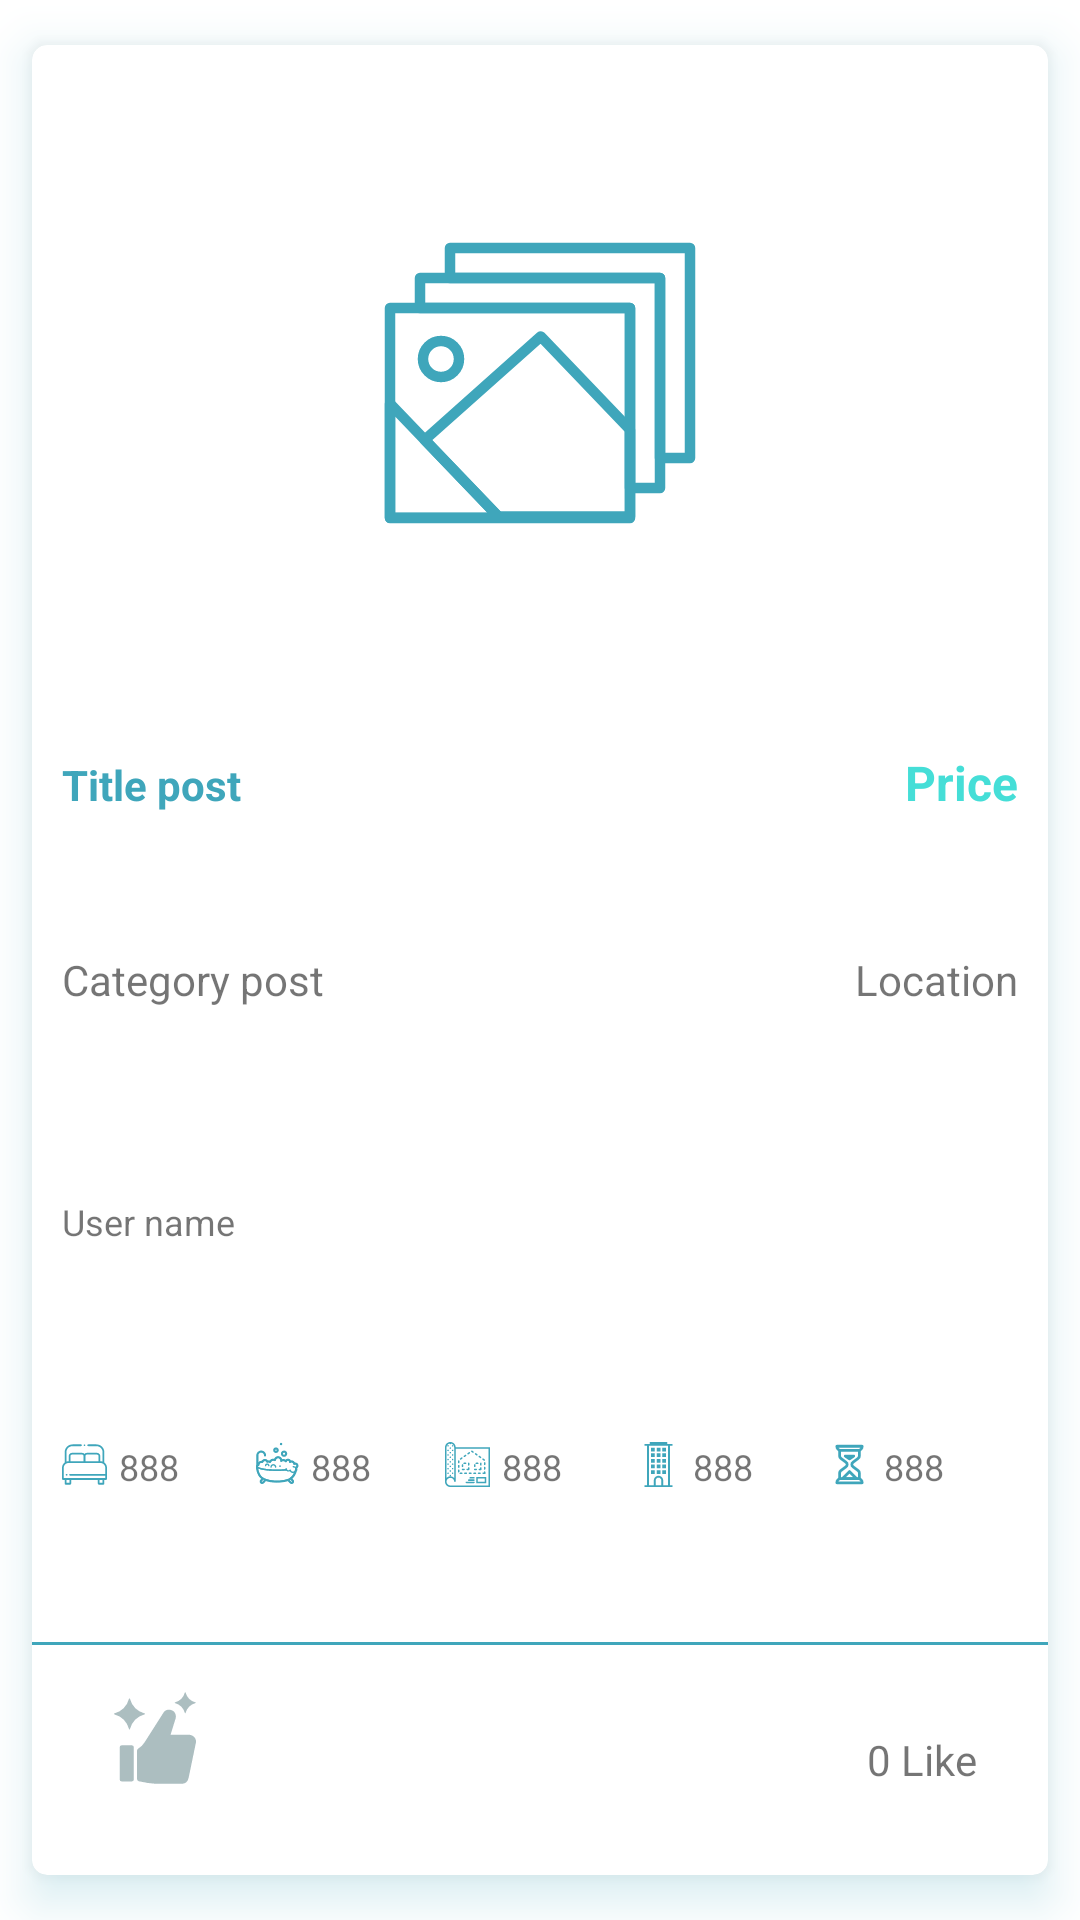

Named icons in this screenshot (1080 × 1920) and their bounding boxes, box(x1, y1, x2, y2):
bathroom: box(256, 1443, 299, 1484)
bed: box(62, 1444, 107, 1485)
blueprint: box(445, 1442, 490, 1487)
building: box(644, 1442, 673, 1487)
